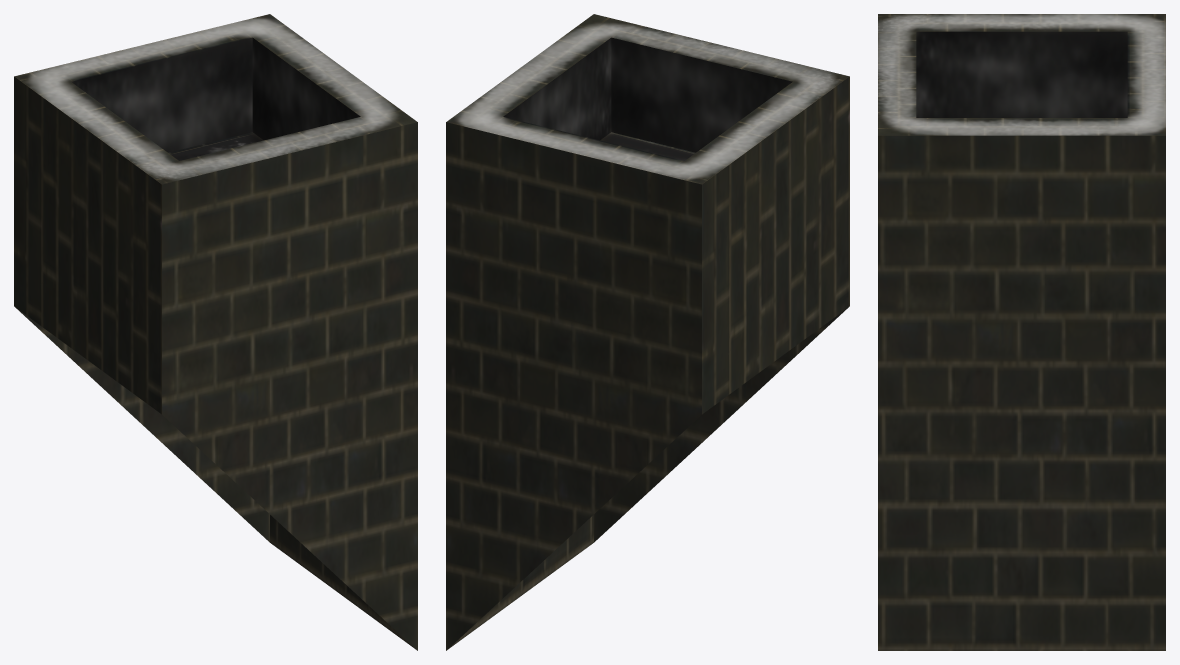
Rendered from Chimney.fbx.
3 views of the same model, side by side, from view 1: azimuth 30°, elevation 25°; view 2: azimuth 150°, elevation 25°; view 3: azimuth 270°, elevation 25° (orthographic). The views are drawn at different scales.
Visible parts, largest first — view 1: Chimney; view 2: Chimney; view 3: Chimney.
Part boxes in pixels (x1,y1,x2,y2): Chimney: (14,14,417,650); Chimney: (446,14,849,650); Chimney: (878,14,1165,650).
Size of the model in its own units: 1.02 by 2.02 by 1.02.
